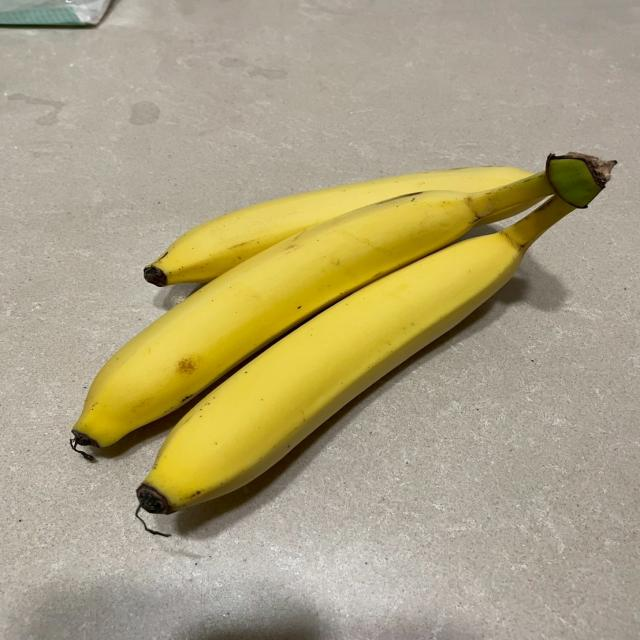banana: (45, 104, 628, 559), (113, 202, 582, 528), (68, 182, 498, 465)
